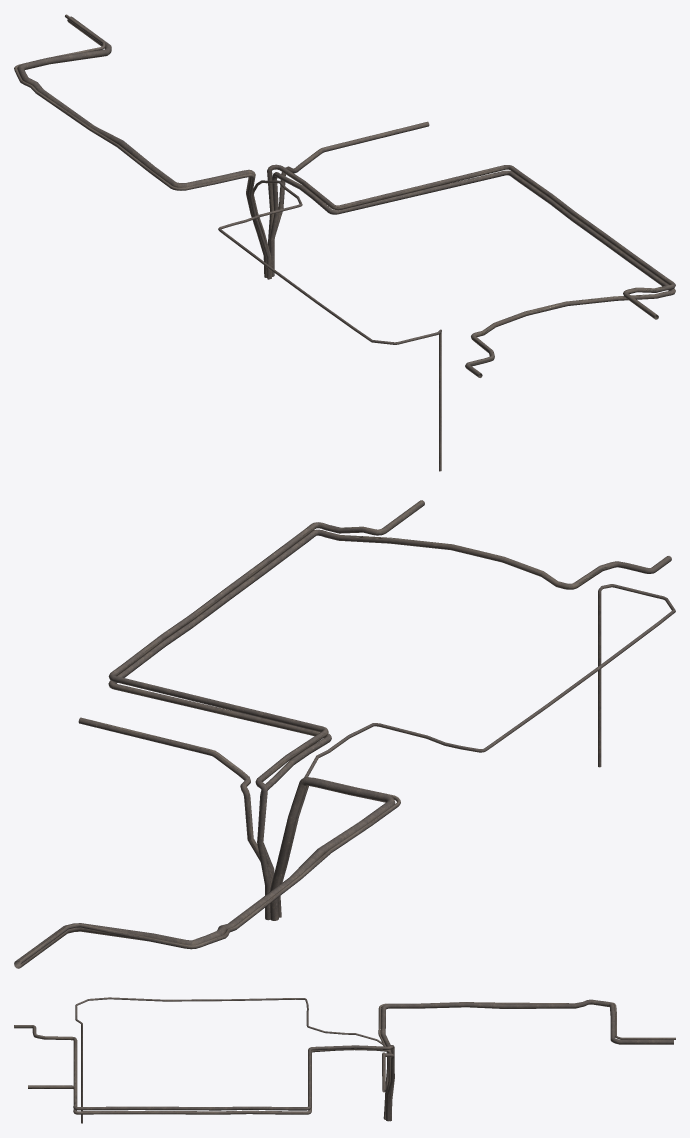
The model's file is Corridor_01_09.fbx.
3 renders of one model, top to bottom at view 1: azimuth 30°, elevation 25°; view 2: azimuth 150°, elevation 25°; view 3: azimuth 270°, elevation 25°, orthographic. The views are drawn at different scales.
Visible parts, largest first — view 1: Corridor_01_09; view 2: Corridor_01_09; view 3: Corridor_01_09.
Part boxes in pixels (x1,y1,x2,y2): Corridor_01_09: [14, 14, 675, 471]; Corridor_01_09: [14, 500, 675, 968]; Corridor_01_09: [14, 997, 675, 1123].
Bounding box in the file's own units: 1423 × 665 × 3836.
